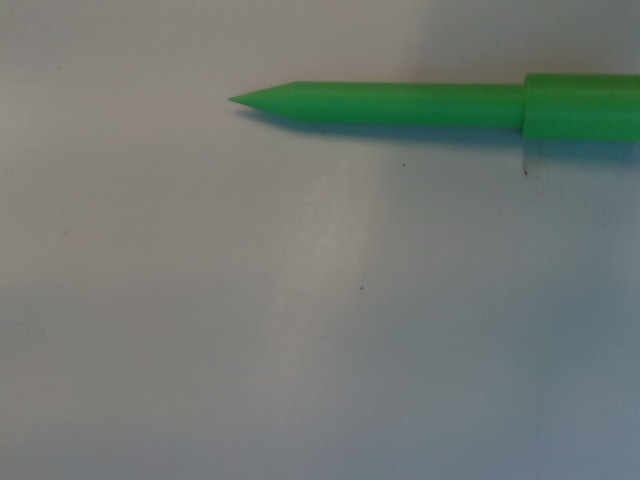Probe: (220, 67, 640, 152)
